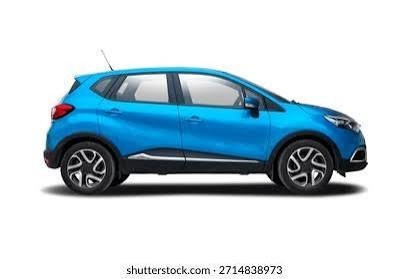car: (48, 62, 372, 196)
